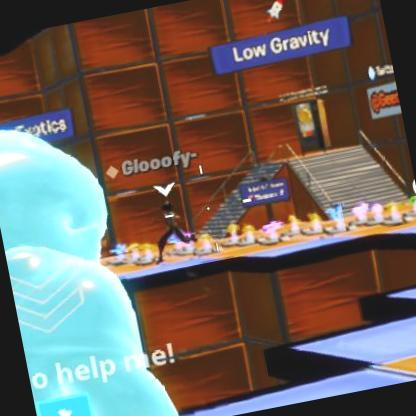person: (153, 195, 187, 251)
